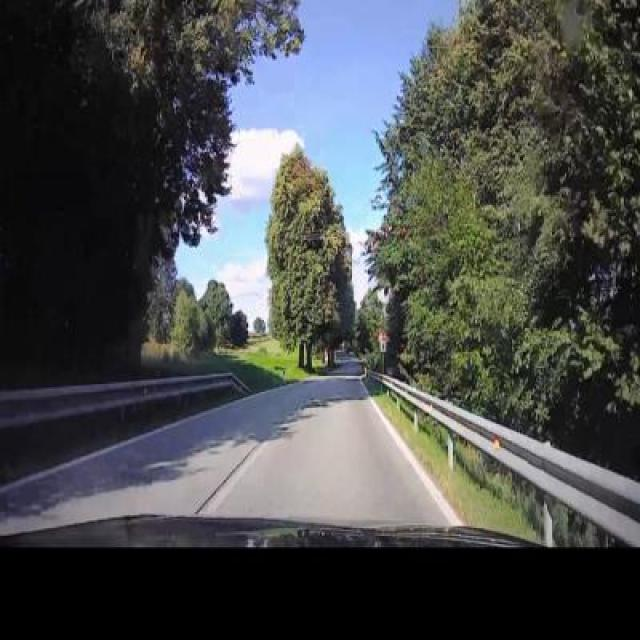clear-road: (0, 377, 456, 536)
